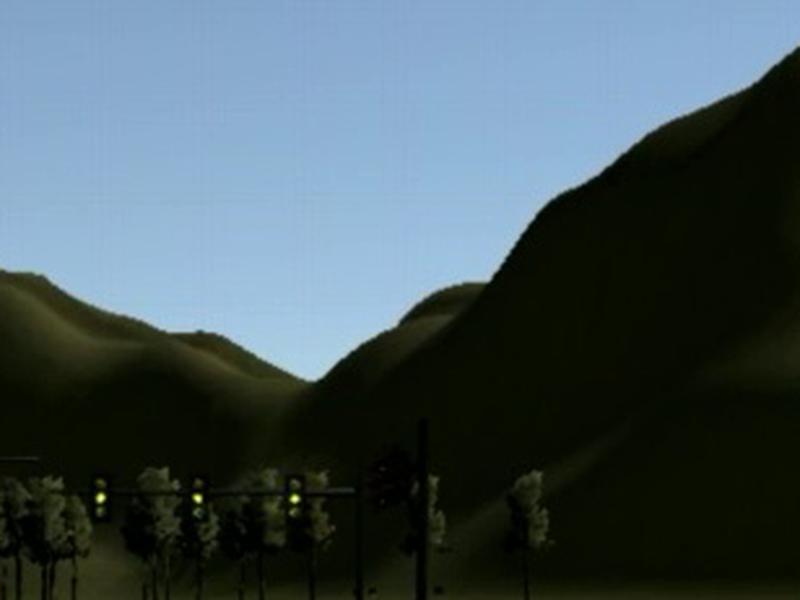Yellow: (91, 472, 113, 521), (286, 473, 306, 523), (188, 472, 207, 520)
